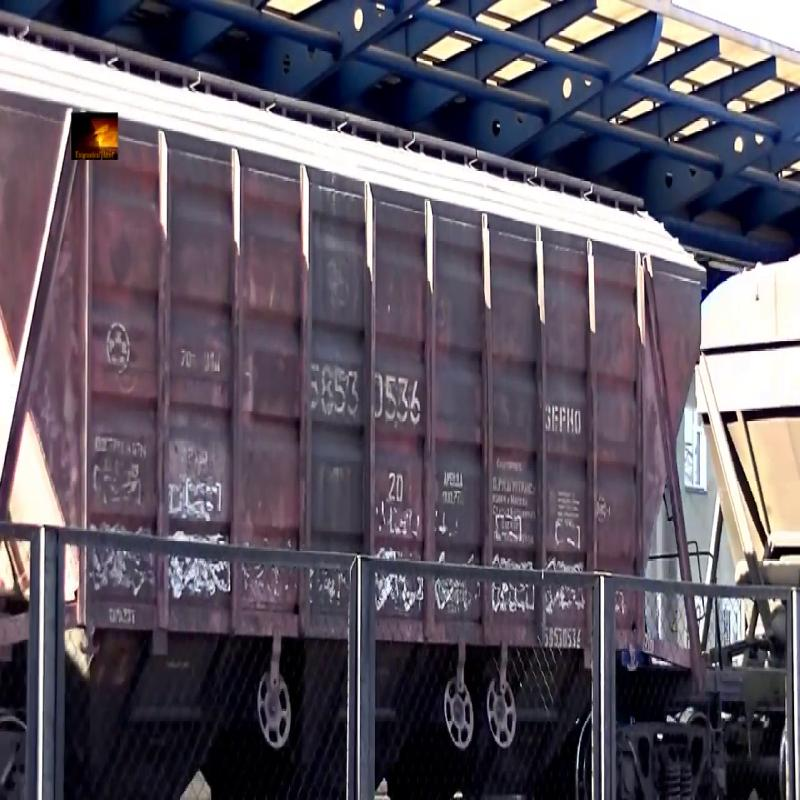train: (3, 22, 717, 771), (749, 22, 800, 770)
